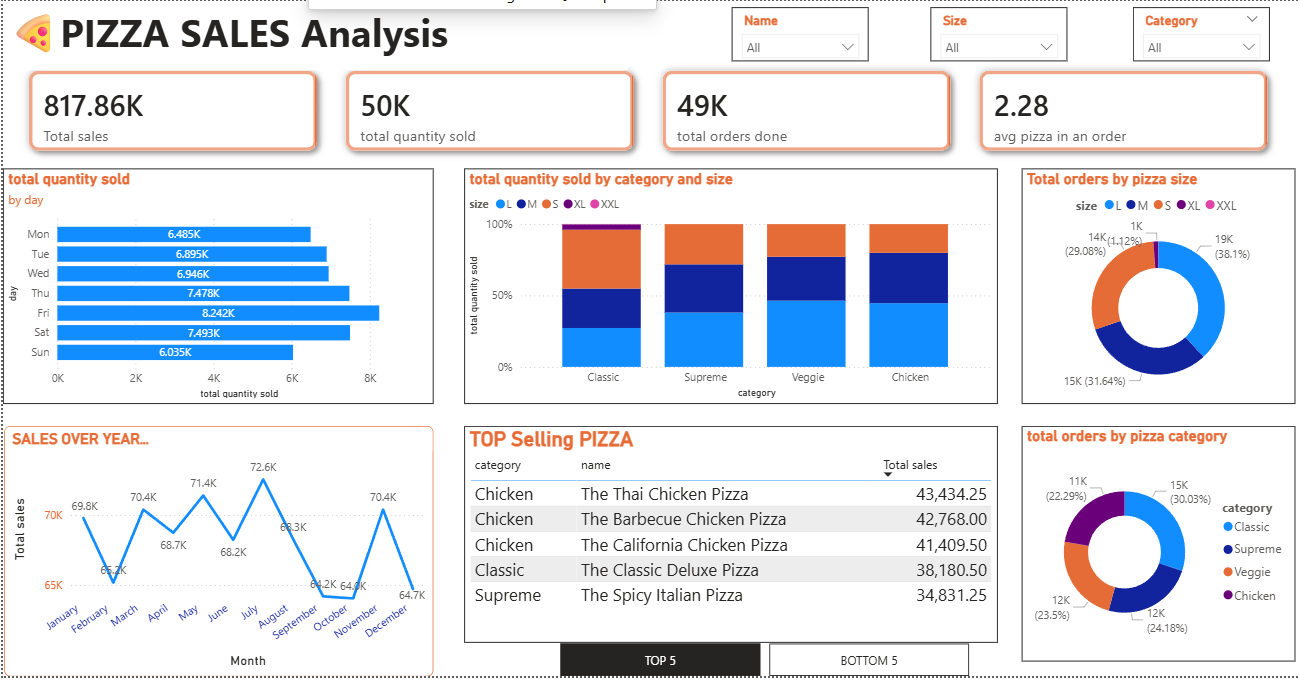

This screenshot's page, from the dashboard's own definition file:
{"tool":"powerbi","page":{"name":"PIZZA SALES","canvas":[1520,750],"ordinal":0},"visuals":[{"type":"lineChart","title":"SALES OVER YEAR...","fields":{"Category":["CALENDER.Date.Variation.Date Hierarchy.Year","CALENDER.Date.Variation.Date Hierarchy.Month"],"Y":["Key Meassures.Total sales"]},"box":[1.4,472.6,476.7,278.1],"z":0},{"type":"cardVisual","fields":{"Data":["Key Meassures.Total sales","Key Meassures.total quantity sold","Key Meassures.total orders done","Key Meassures.avg pizza in an order"]},"box":[0,47.9,1434.2,147.9],"z":1000},{"type":"donutChart","title":"Total orders by pizza size","fields":{"Category":["pizzas - pizzas.size"],"Y":["Key Meassures.total orders done"]},"box":[1131.5,186.3,304.1,261.6],"z":2000},{"type":"donutChart","title":"total orders by pizza category","fields":{"Category":["pizza_types - pizza_types.category"],"Y":["Key Meassures.total quantity sold"]},"box":[1131.5,472.6,304.1,261.6],"z":3000},{"type":"barChart","fields":{"Category":["CALENDER.day"],"Y":["Key Meassures.total quantity sold"]},"box":[0,186.3,478.1,261.6],"z":4000},{"type":"hundredPercentStackedColumnChart","fields":{"Category":["pizza_type.category"],"Y":["Key Meassures.total quantity sold"],"Series":["pizzas - pizzas.size"]},"box":[512.3,186.3,593.2,261.6],"z":5000},{"type":"tableEx","title":"TOP Selling PIZZA","fields":{"Values":["pizza_type.category","pizza_type.name","Key Meassures.Total sales"]},"box":[512.3,472.6,593.2,241.1],"z":6000},{"type":"bookmarkNavigator","box":[619.2,713.7,454.8,37],"z":8000},{"type":"textbox","box":[0,67.1,694.5,5.5],"z":9000},{"type":"textbox","box":[0,0,530.1,74],"z":10000},{"type":"slicer","fields":{"Values":["pizza_type.name"]},"box":[809.6,6.8,152.1,60.3],"z":11000},{"type":"slicer","fields":{"Values":["pizzas - pizzas.size"]},"box":[1030.1,6.8,152.1,60.3],"z":12000},{"type":"slicer","fields":{"Values":["pizza_type.category"]},"box":[1256.2,6.8,152.1,60.3],"z":13000}]}

Visuals, with their boxes on the page's 1520x750 design canvas (x1, y1, x2, y2). These are canvas units, not pixel positions in the 1300x687 screenshot, which may show the page scaled, cropped or inside an application window:
"SALES OVER YEAR..." lineChart: 1:473:478:751
cardVisual - Key Meassures.Total sales x Key Meassures.total quantity sold: 0:48:1434:196
"Total orders by pizza size" donutChart: 1132:186:1436:448
"total orders by pizza category" donutChart: 1132:473:1436:734
barChart - CALENDER.day x Key Meassures.total quantity sold: 0:186:478:448
hundredPercentStackedColumnChart - pizza_type.category x Key Meassures.total quantity sold: 512:186:1106:448
"TOP Selling PIZZA" tableEx: 512:473:1106:714
bookmarkNavigator: 619:714:1074:751
textbox: 0:67:694:73
textbox: 0:0:530:74
slicer - pizza_type.name: 810:7:962:67
slicer - pizzas - pizzas.size: 1030:7:1182:67
slicer - pizza_type.category: 1256:7:1408:67
